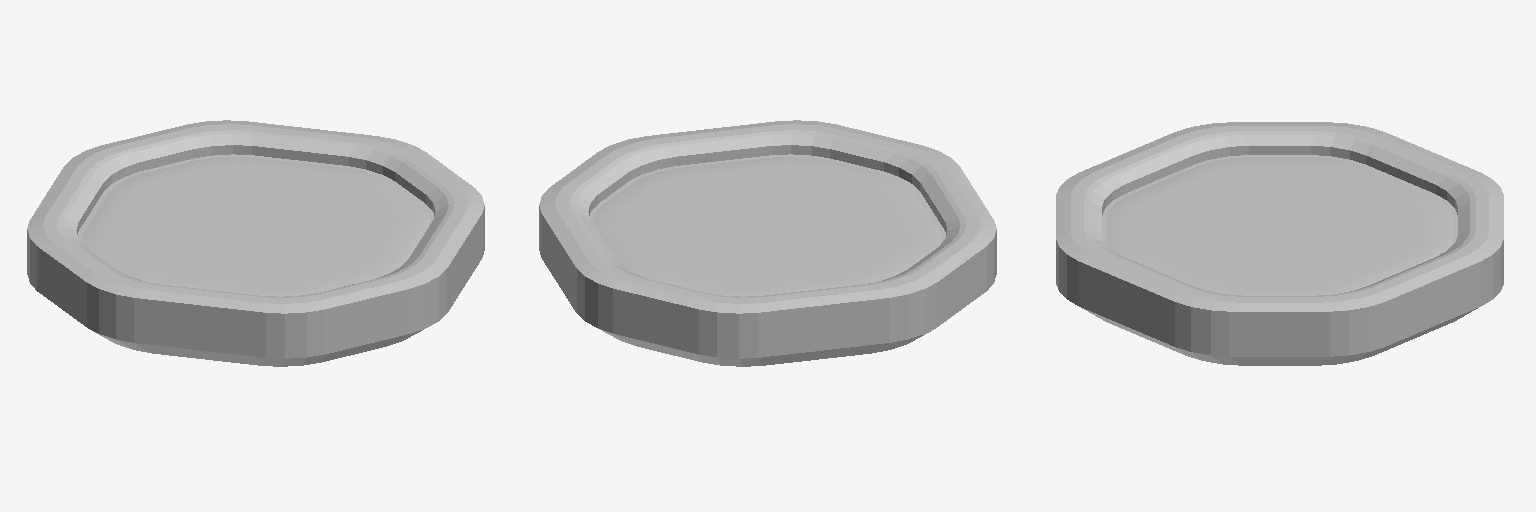
Rendered from cheese pizza.obj.
3 renders of one model, left to right at view 1: azimuth 30°, elevation 25°; view 2: azimuth 150°, elevation 25°; view 3: azimuth 270°, elevation 25°, orthographic.
Visible parts, largest first — view 1: Cheese_Pizza_Cube.009; view 2: Cheese_Pizza_Cube.009; view 3: Cheese_Pizza_Cube.009.
Boxes of the visible parts, x1=… form: Cheese_Pizza_Cube.009: x1=27, y1=120, x2=484, y2=366; Cheese_Pizza_Cube.009: x1=539, y1=120, x2=996, y2=366; Cheese_Pizza_Cube.009: x1=1056, y1=122, x2=1503, y2=365.
Bounding box in the file's own units: 2 × 0.4132 × 2.